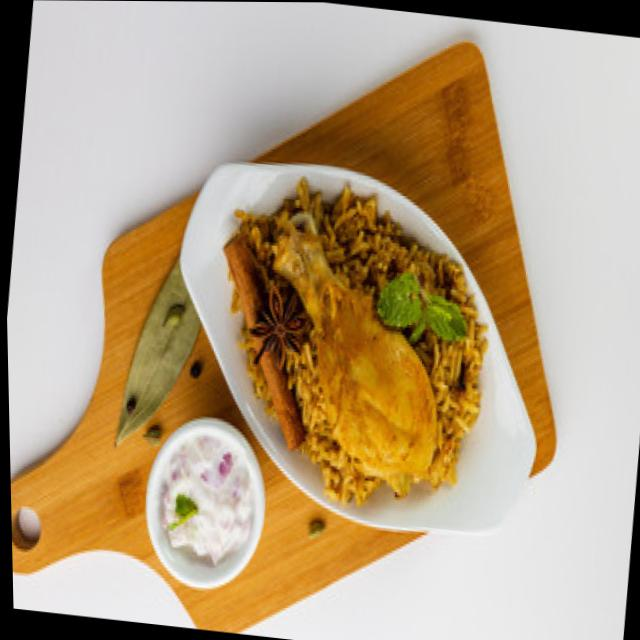BIRIYANI: (231, 180, 486, 504)
CURD: (156, 424, 251, 564)
